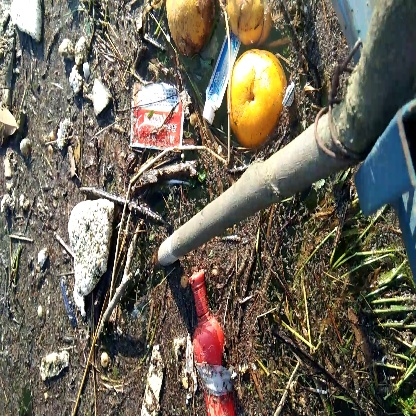bottle: (186, 270, 251, 416)
